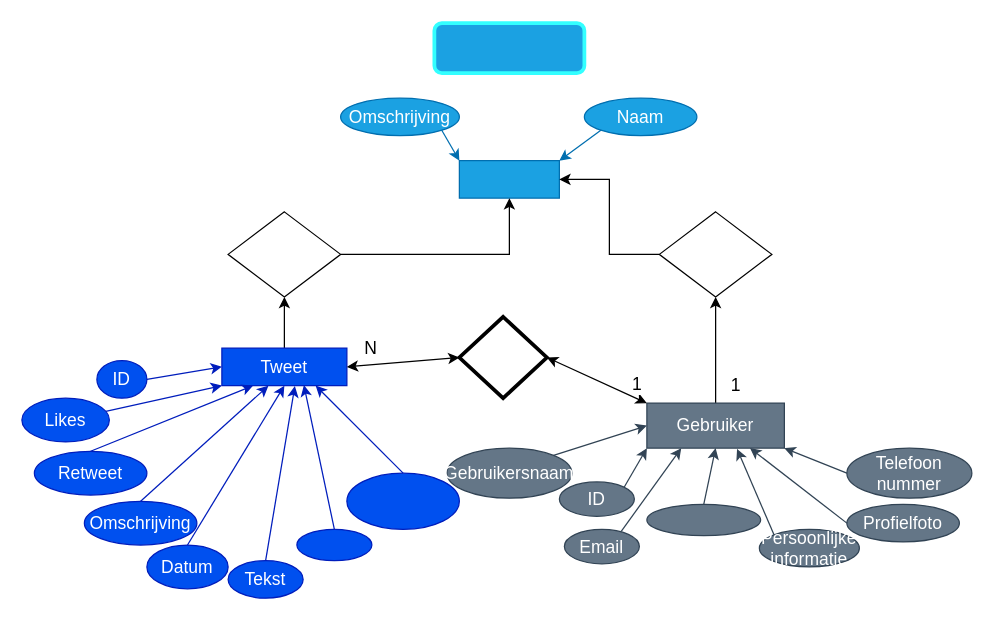
The diagram is 994 pixels wide and 620 high, and some of its shapes have lost their labels. Each missing label, with the box of its shape:
Chirpify: (458, 159, 559, 198)
Kan inloggen op: (658, 211, 772, 297)
Post: (457, 314, 548, 399)
Project P3: (432, 21, 586, 74)
Reactie: (346, 472, 459, 529)
Tijd: (296, 528, 372, 561)
Wachtwoord: (646, 503, 761, 536)
wordt geplaats op: (227, 211, 341, 297)
